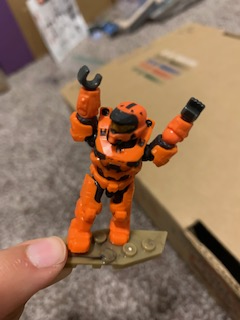spartan: (60, 64, 205, 256)
up: (64, 64, 207, 183)
